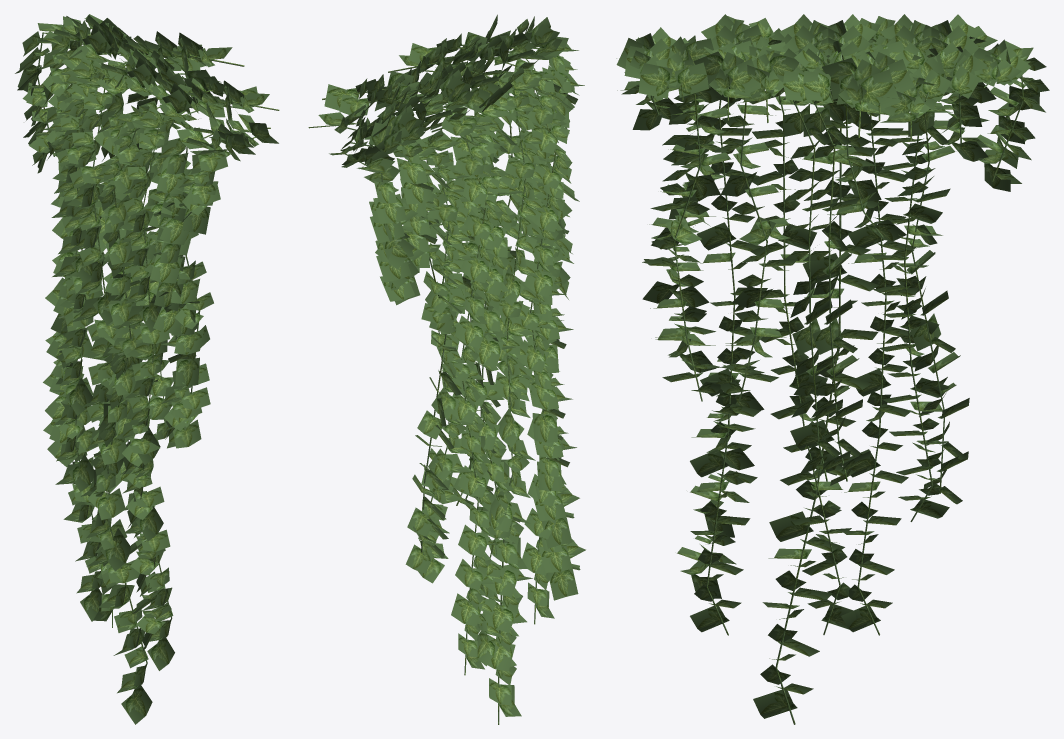
File: Large_Ivy.FBX
3 renders of one model, left to right at view 1: azimuth 30°, elevation 25°; view 2: azimuth 150°, elevation 25°; view 3: azimuth 270°, elevation 25°, orthographic. The views are drawn at different scales.
Parts seen in each view (by area): view 1: Object127, Plane019, Object197, Plane002, Object074, Object182, Object200, Object069, Object194; view 2: Object127, Plane019, Object074, Plane002, Object069, Object200, Object197, Object194, Object182; view 3: Object127, Object074, Plane019, Object197, Plane002, Object194, Object069, Object200, Object182.
Boxes of the visible parts, box(x1,y1,x2,y2) form: Object127: box(67, 32, 259, 724); Plane019: box(118, 80, 279, 670); Object197: box(144, 102, 270, 448); Plane002: box(51, 31, 211, 621); Object074: box(42, 24, 205, 483); Object182: box(173, 122, 278, 234); Object200: box(39, 15, 134, 159); Object069: box(15, 14, 102, 173); Object194: box(130, 92, 238, 439); Object127: box(322, 42, 548, 724); Plane019: box(408, 32, 585, 624); Object074: box(308, 95, 474, 583); Plane002: box(339, 83, 510, 675); Object069: box(329, 138, 424, 305); Object200: box(341, 105, 444, 267); Object197: box(458, 30, 579, 388); Object194: box(424, 55, 539, 401); Object182: box(486, 14, 584, 133); Object127: box(736, 14, 900, 724); Object074: box(872, 14, 969, 521); Plane019: box(677, 14, 767, 635); Object197: box(642, 35, 731, 401); Plane002: box(841, 16, 918, 635); Object194: box(712, 36, 797, 401); Object069: box(973, 39, 1049, 191); Object200: box(923, 14, 997, 161); Object182: box(616, 27, 683, 130).
Size of the model in its own units: 16.39 by 55.76 by 30.65.
Materials: 1 (1 with a texture image).
